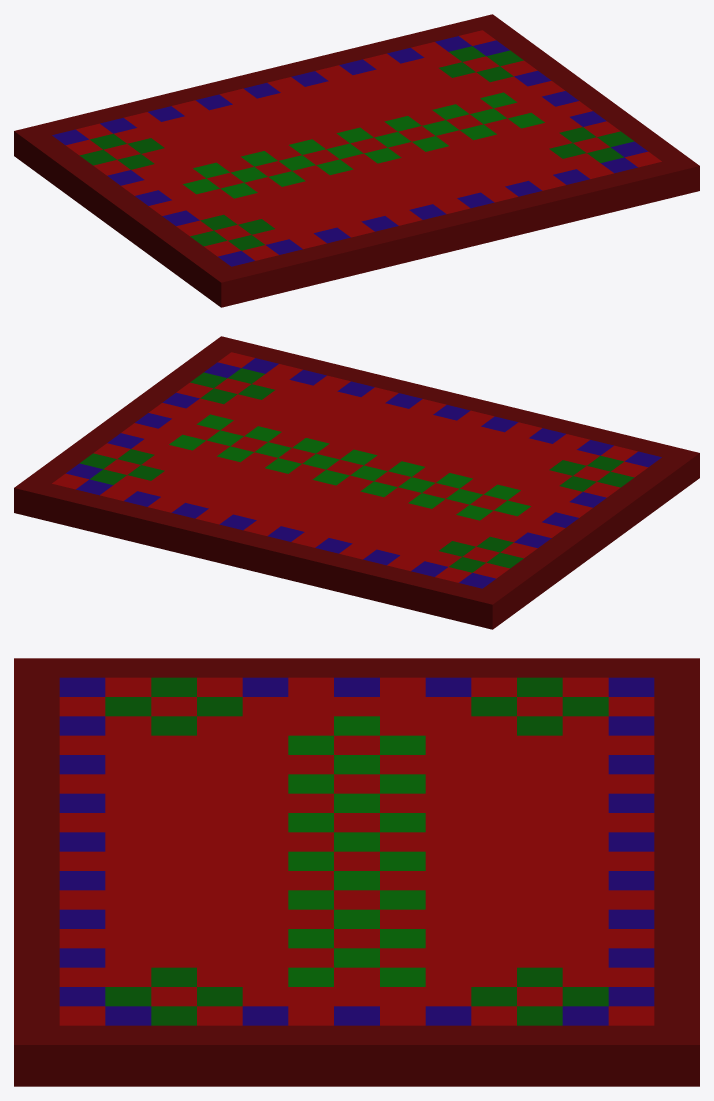
File: carpet.obj
The picture shows the model from 3 angles, top to bottom: view 1: azimuth 30°, elevation 25°; view 2: azimuth 150°, elevation 25°; view 3: azimuth 270°, elevation 25°; orthographic projection. The views are drawn at different scales.
Bounding box in the file's own units: 2 × 0.1 × 1.5.
Materials: 1 (1 with a texture image).
